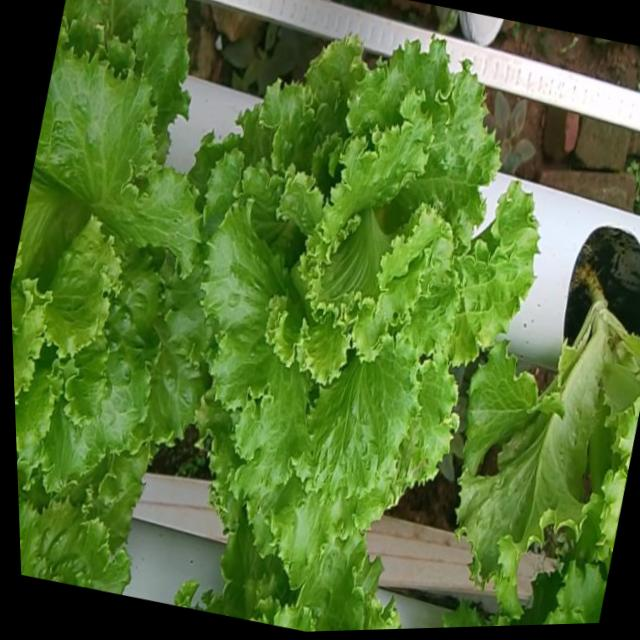Mature: (189, 25, 530, 547), (11, 29, 203, 477)
